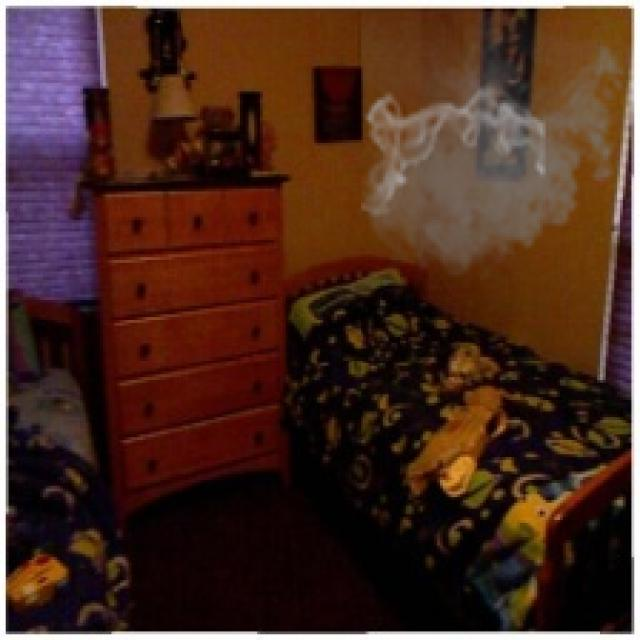smoke: (357, 12, 632, 288)
